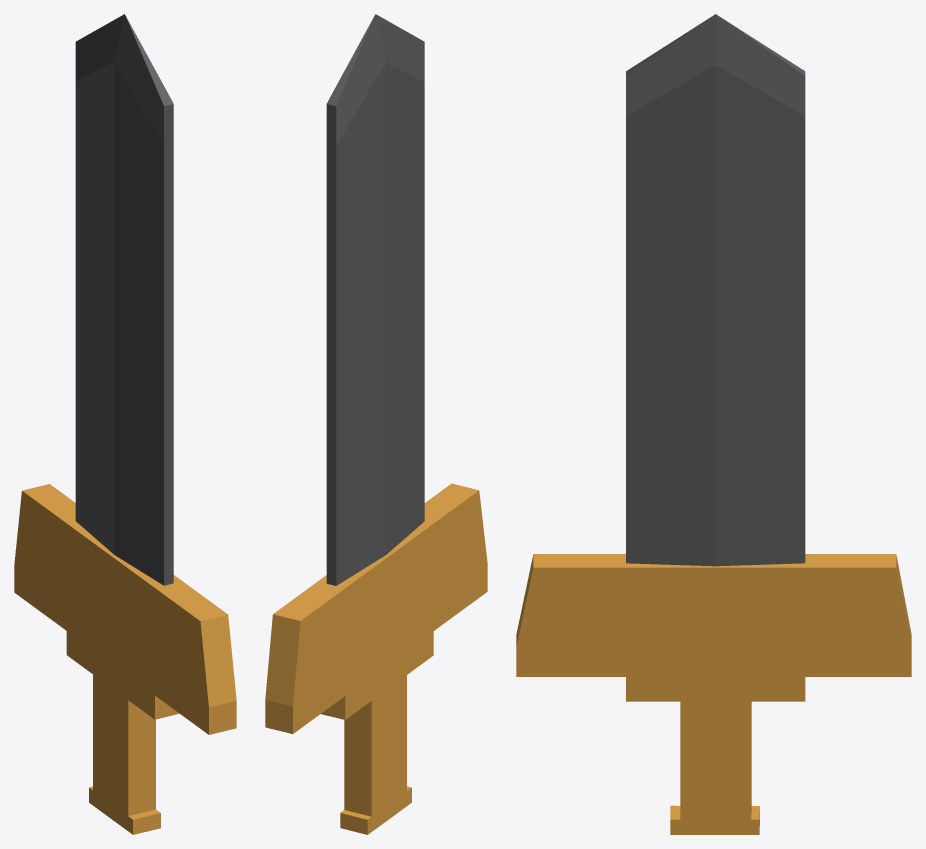
File: knife.fbx
3 renders of one model, left to right at view 1: azimuth 30°, elevation 25°; view 2: azimuth 150°, elevation 25°; view 3: azimuth 270°, elevation 25°, orthographic.
Parts seen in each view (by area): view 1: Cube; view 2: Cube; view 3: Cube.
Boxes of the visible parts, x1,y1,x2,y2 form: Cube: (14,14,236,834); Cube: (265,14,487,834); Cube: (516,14,911,834).
Size of the model in its own units: 36.25 by 1002 by 441.
